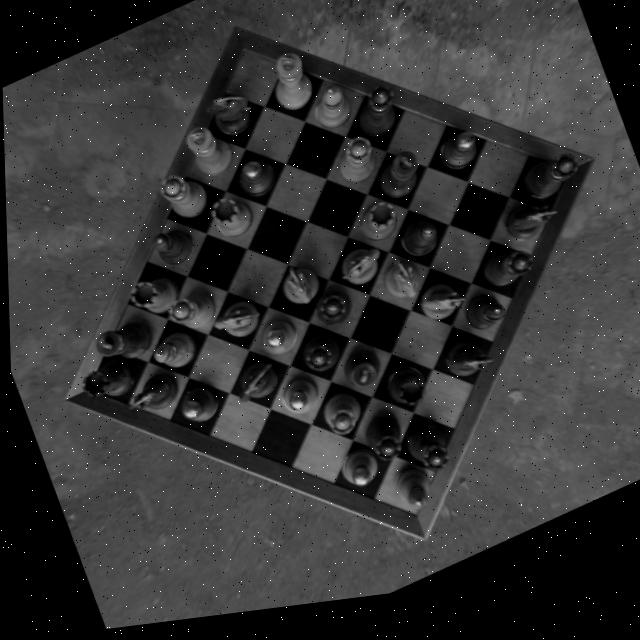chessboard: (87, 57, 568, 526)
